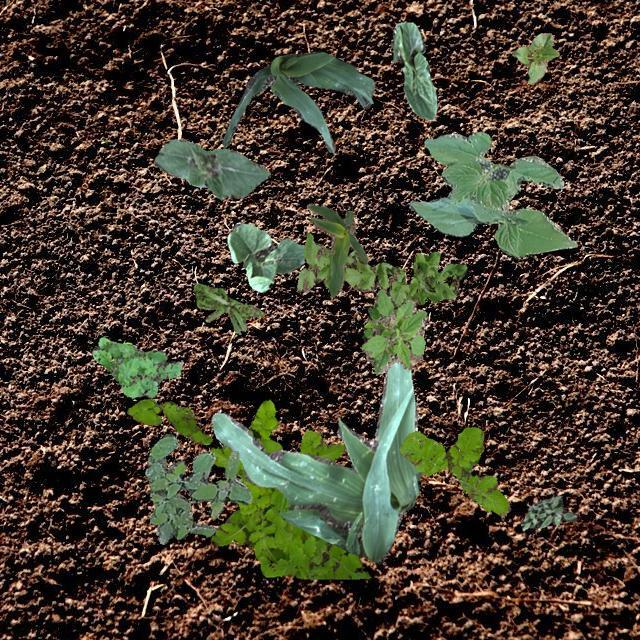crop: (210, 360, 420, 562), (408, 130, 576, 256), (222, 49, 374, 152), (153, 138, 270, 198), (306, 202, 366, 296), (226, 222, 304, 290), (390, 22, 436, 118), (510, 32, 558, 84)
weed: (210, 398, 370, 578), (296, 232, 466, 306), (144, 432, 250, 544), (398, 426, 509, 516), (361, 288, 426, 372), (92, 336, 182, 396), (126, 398, 212, 443), (192, 282, 262, 334), (520, 494, 576, 530)
